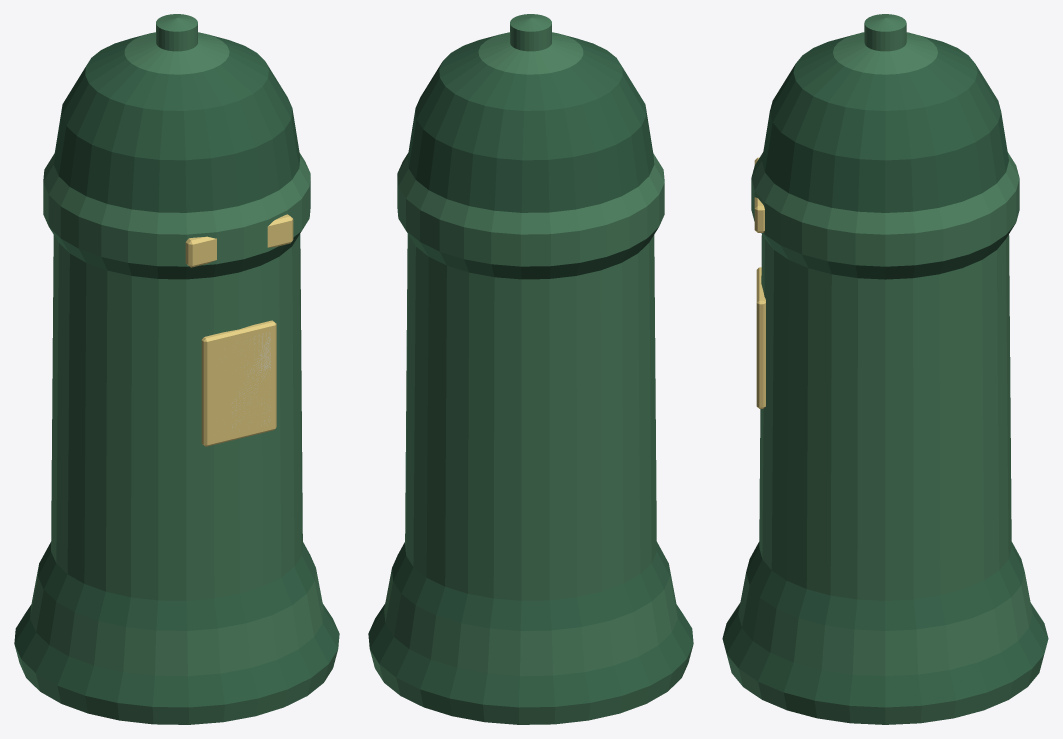
Rendered from mailbox_vintage_pillar.fbx.
3 renders of one model, left to right at view 1: azimuth 30°, elevation 25°; view 2: azimuth 150°, elevation 25°; view 3: azimuth 270°, elevation 25°, orthographic.
Visible parts, largest first — view 1: Mailbox_VintagePillar; view 2: Mailbox_VintagePillar; view 3: Mailbox_VintagePillar.
Boxes of the visible parts, bbox=[...] form: Mailbox_VintagePillar: bbox=[14, 14, 339, 724]; Mailbox_VintagePillar: bbox=[368, 14, 693, 724]; Mailbox_VintagePillar: bbox=[722, 14, 1048, 724].
Bounding box in the file's own units: 240 × 520 × 240.
